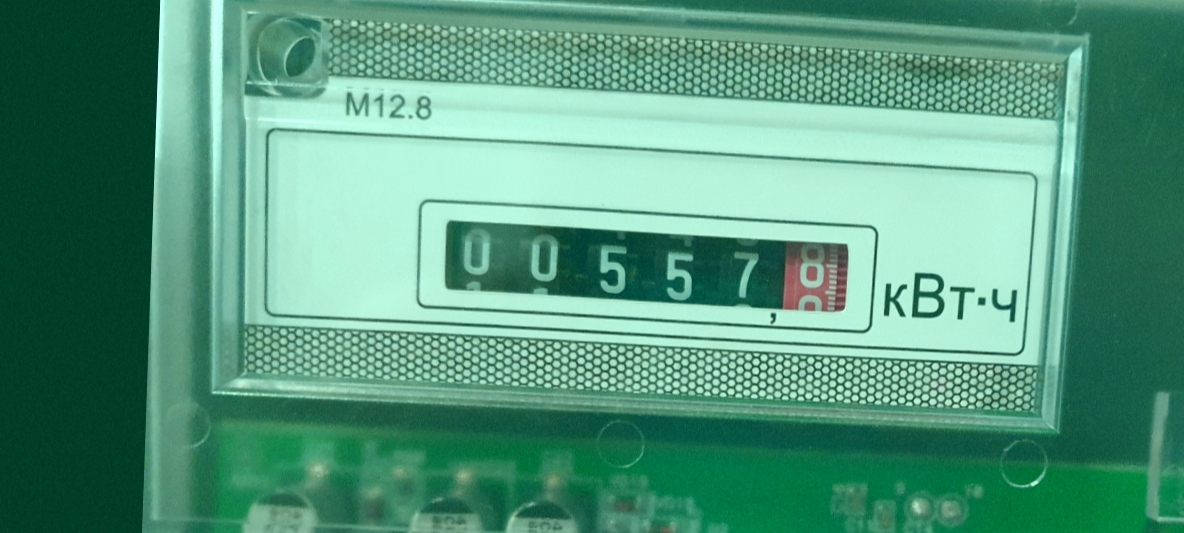0: (457, 221, 493, 278), (525, 229, 560, 282)
5: (659, 243, 698, 303), (593, 238, 629, 296)
7: (725, 245, 759, 301)
8: (796, 240, 826, 290)
screen: (409, 190, 882, 337)
